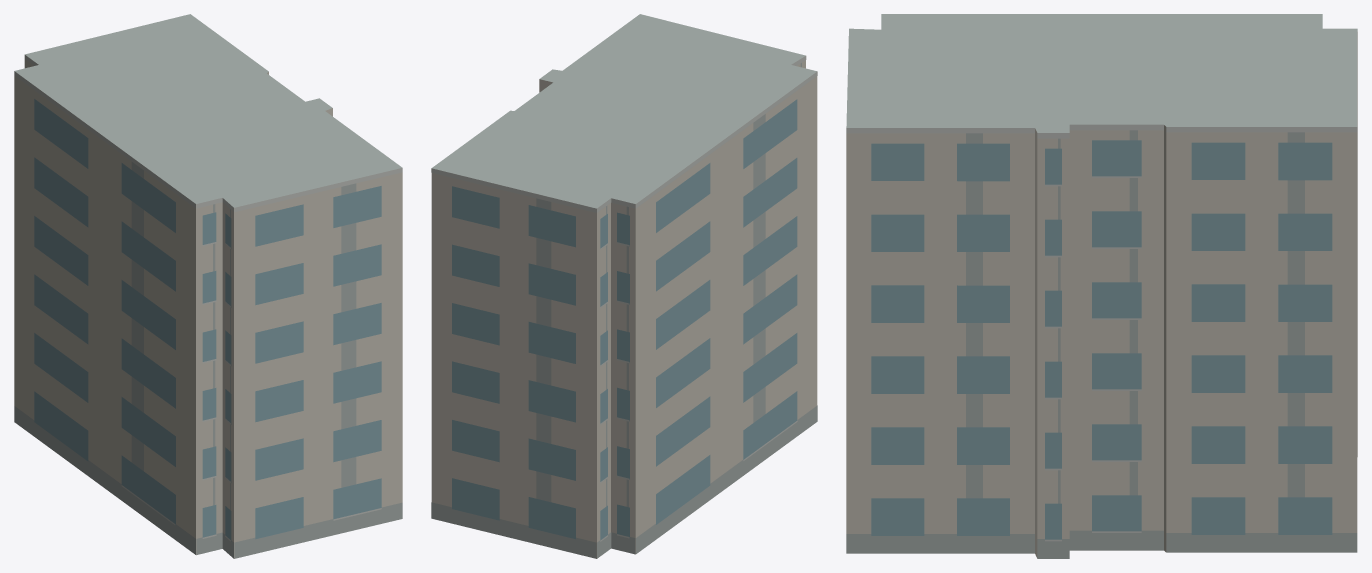
Rendered from survey-upis-32855323.glb.
3 renders of one model, left to right at view 1: azimuth 30°, elevation 25°; view 2: azimuth 150°, elevation 25°; view 3: azimuth 270°, elevation 25°, orthographic. The views are drawn at different scales.
Visible parts, largest first — view 1: survey-upis-32855323.tmp; view 2: survey-upis-32855323.tmp; view 3: survey-upis-32855323.tmp.
Part boxes in pixels (x1,y1,x2,y2): survey-upis-32855323.tmp: (14, 14, 402, 558); survey-upis-32855323.tmp: (431, 14, 817, 558); survey-upis-32855323.tmp: (846, 14, 1357, 558).
Bounding box in the file's own units: 11.42 × 19 × 20.68.
